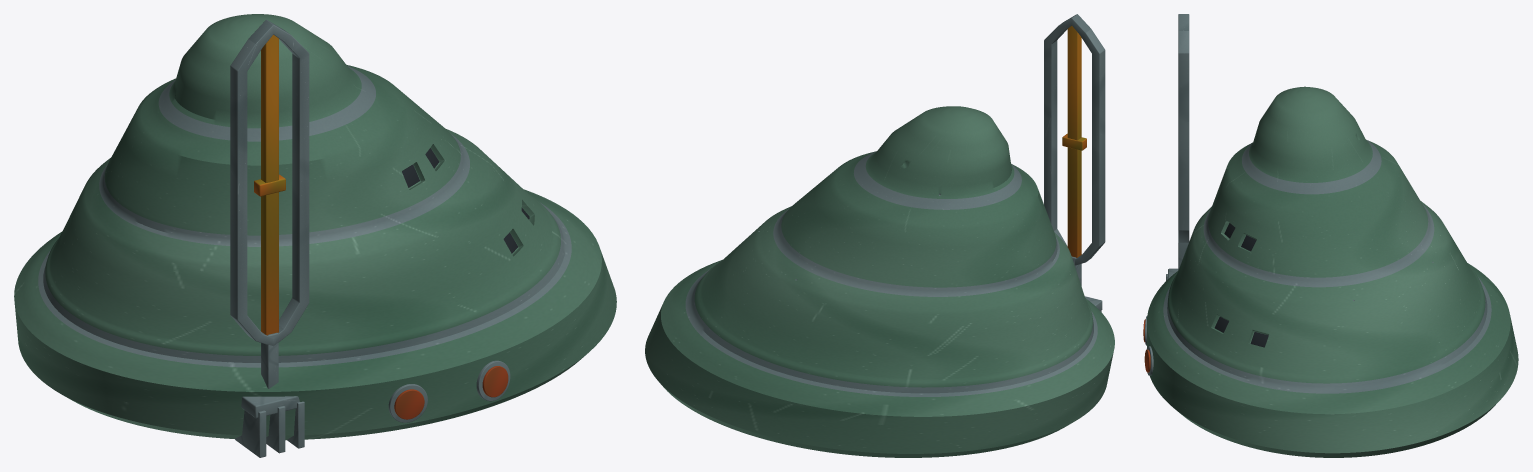
3 renders of one model, left to right at view 1: azimuth 30°, elevation 25°; view 2: azimuth 150°, elevation 25°; view 3: azimuth 270°, elevation 25°, orthographic. The views are drawn at different scales.
Parts seen in each view (by area): view 1: Arms Forge continuous tiered shell and boss, Arms Forge open silver capsule frame, Arms Forge central gold bar, Arms Forge silver foot prong 0, Arms Forge silver foot crossbar, Arms Forge silver support stem, Arms Forge front copper face 0, Arms Forge silver foot prong 1, Arms Forge front copper face 1; view 2: Arms Forge continuous tiered shell and boss, Arms Forge open silver capsule frame, Arms Forge central gold bar; view 3: Arms Forge continuous tiered shell and boss, Arms Forge open silver capsule frame.
Boxes of the visible parts, x1=… form: Arms Forge continuous tiered shell and boss: x1=14, y1=14, x2=616, y2=440; Arms Forge open silver capsule frame: x1=230, y1=19, x2=309, y2=346; Arms Forge central gold bar: x1=261, y1=35, x2=278, y2=335; Arms Forge silver foot prong 0: x1=235, y1=410, x2=266, y2=457; Arms Forge silver foot crossbar: x1=241, y1=396, x2=299, y2=418; Arms Forge silver support stem: x1=261, y1=332, x2=278, y2=388; Arms Forge front copper face 0: x1=394, y1=389, x2=424, y2=419; Arms Forge silver foot prong 1: x1=266, y1=406, x2=285, y2=453; Arms Forge front copper face 1: x1=482, y1=366, x2=508, y2=397; Arms Forge continuous tiered shell and boss: x1=645, y1=106, x2=1114, y2=457; Arms Forge open silver capsule frame: x1=1044, y1=14, x2=1105, y2=265; Arms Forge central gold bar: x1=1067, y1=26, x2=1081, y2=257; Arms Forge continuous tiered shell and boss: x1=1147, y1=86, x2=1518, y2=457; Arms Forge open silver capsule frame: x1=1178, y1=14, x2=1189, y2=242.
Bounding box in the file's own units: 2.27 × 1.67 × 1.9.
5 materials, 4 textured.
